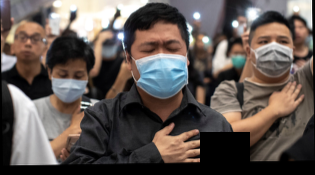with_mask: (131, 36, 187, 98), (248, 30, 295, 80), (49, 65, 89, 105), (230, 47, 246, 68), (102, 43, 120, 61)
without_mask: (14, 28, 44, 62), (292, 21, 308, 46)
